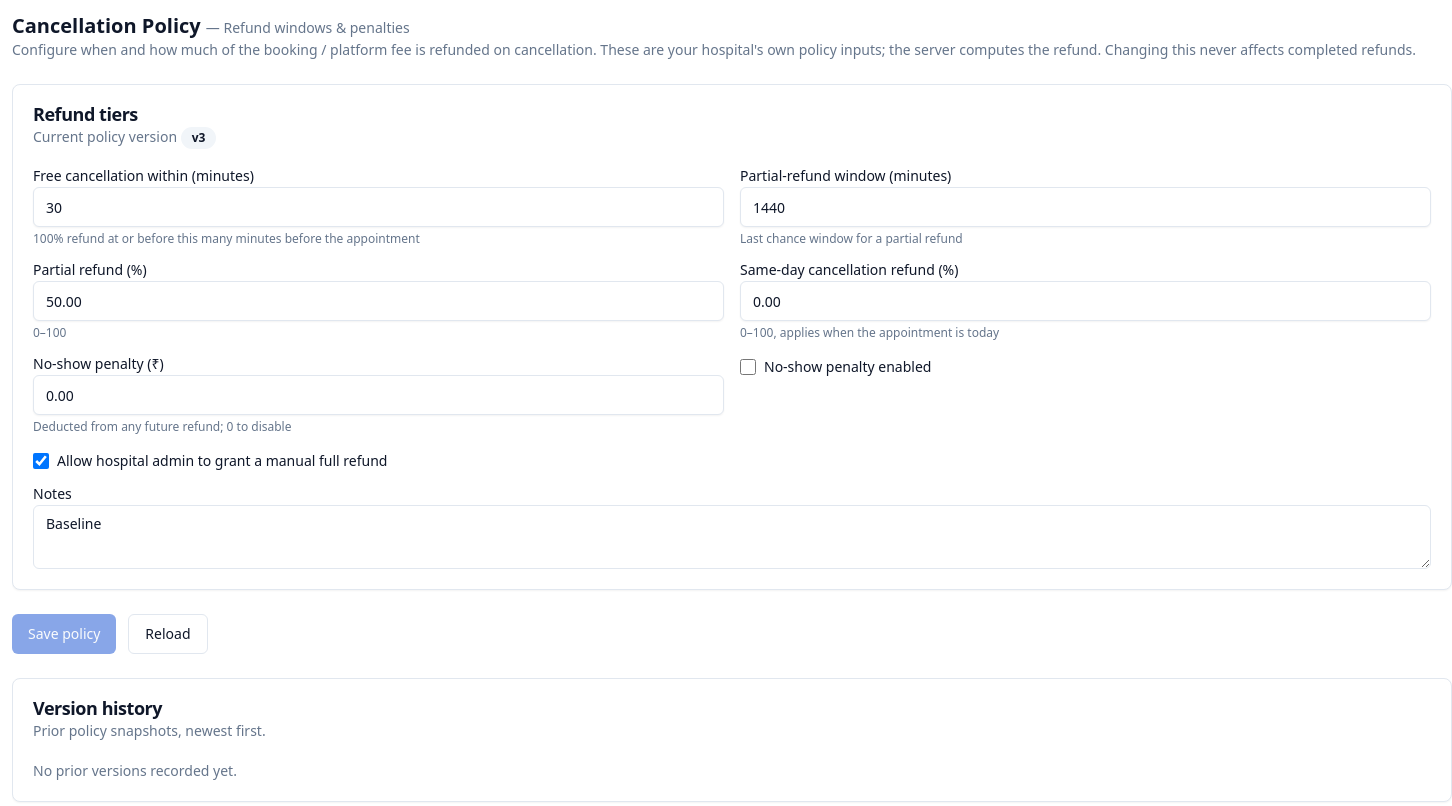
Scenario: renders an honest validation error and never a fake success
Expected: the field showing "30" is shown, [33,187,724,227]
Note: Locally valid (0-100, changed): the refusal must come from the server.
Replace the text in the field with test id "partial-pct" with "90" at (378, 301), box [33,281,724,321]
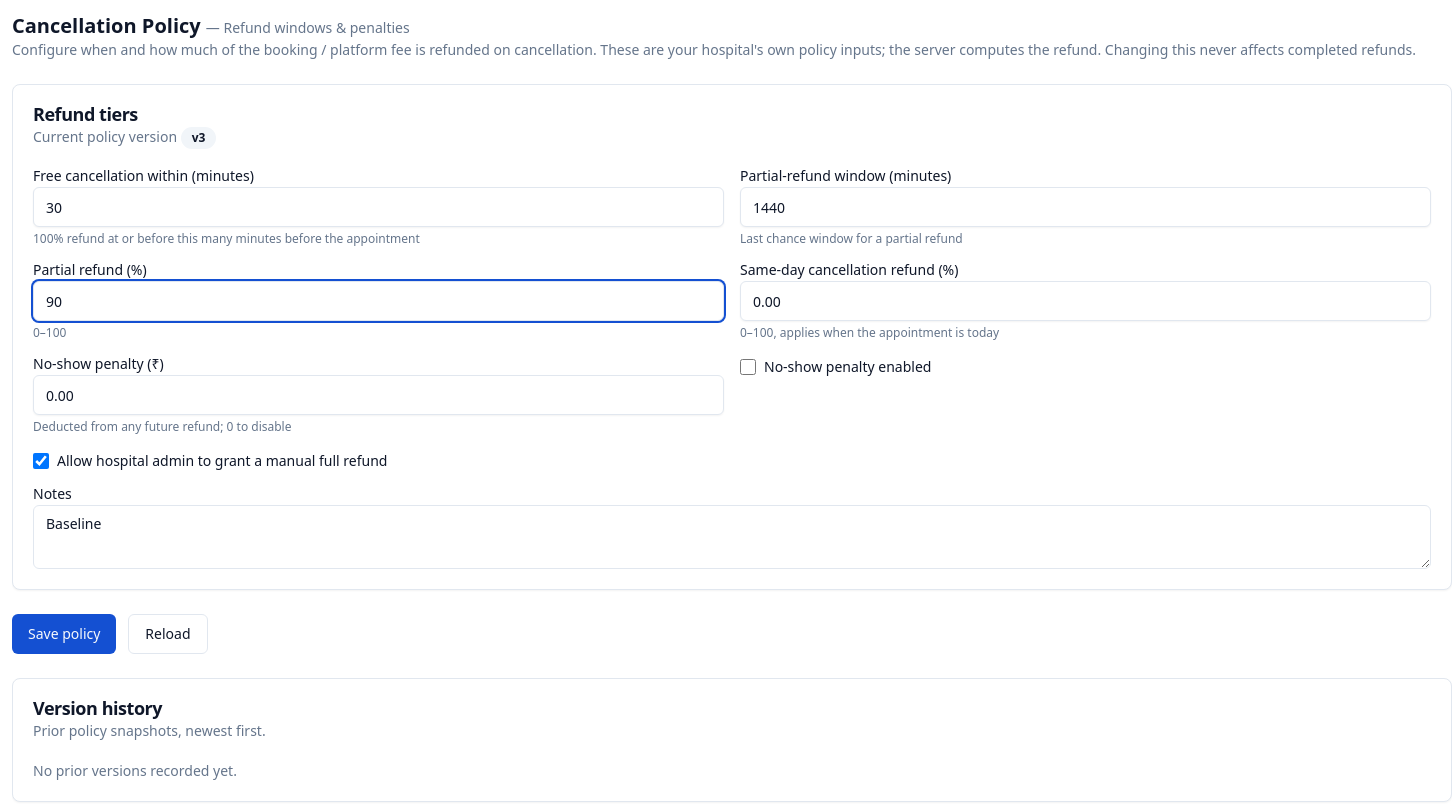
Click the button with test id "save-btn" at (64, 634), box [12,614,116,654]
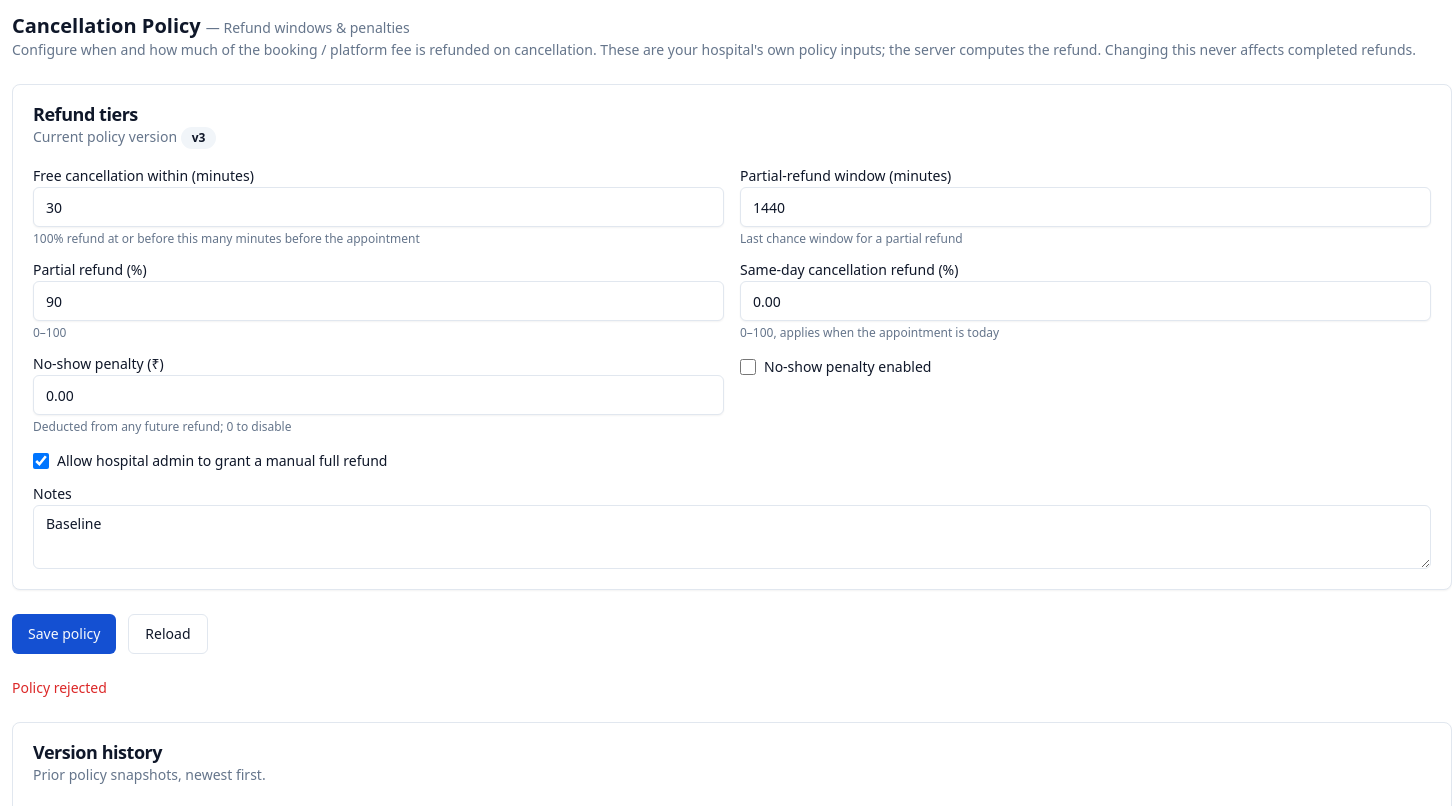
Now the text "Policy rejected" is shown, box [12,678,107,697]
